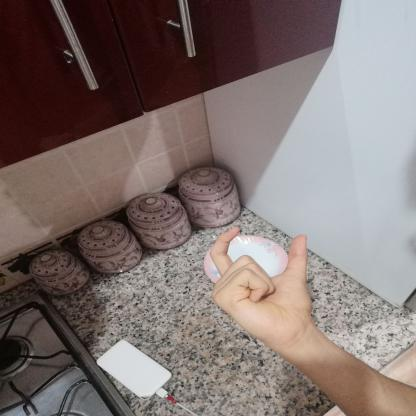NOON: (188, 221, 331, 352)
